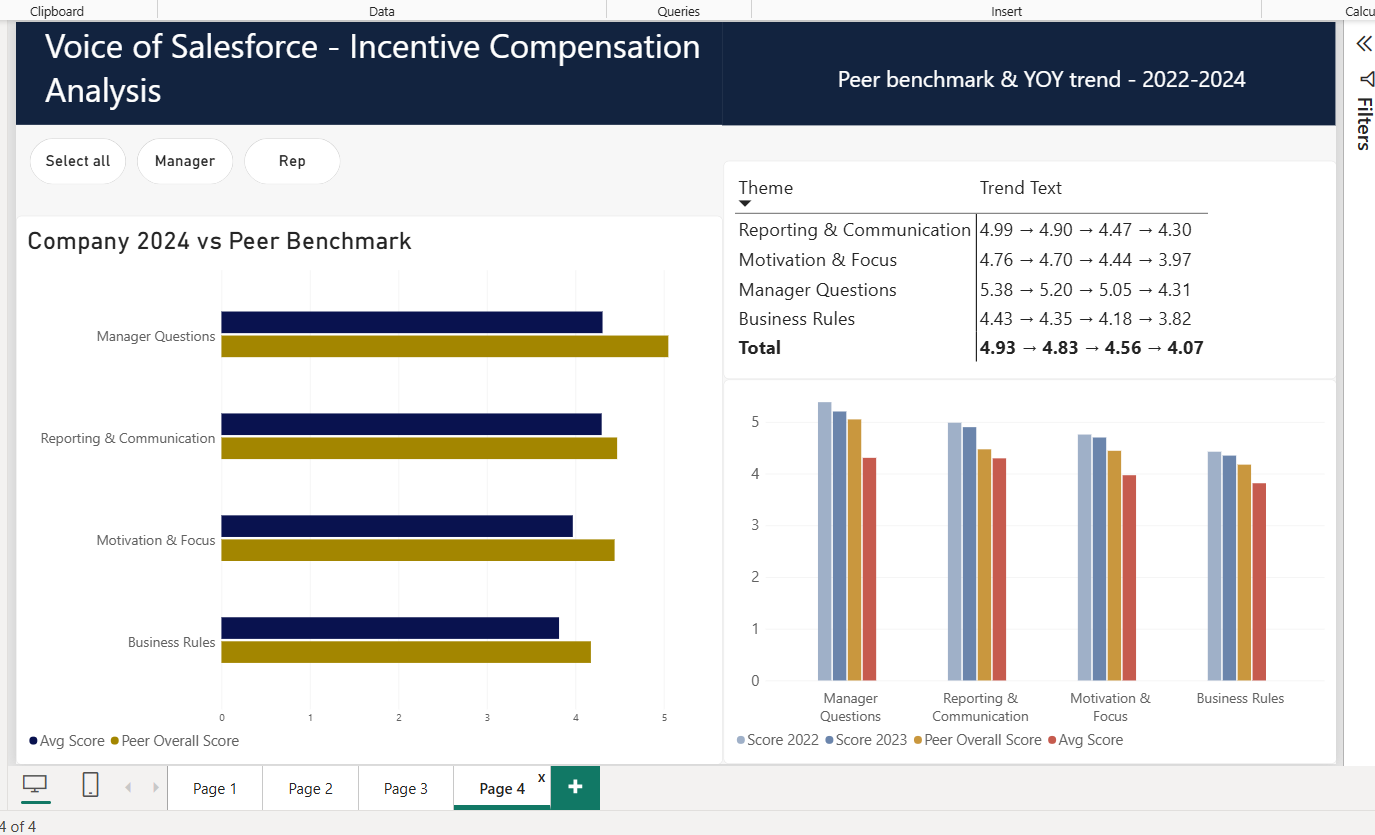

The dashboard page shown, as its layout file describes it:
{"tool":"powerbi","page":{"name":"Page 4","canvas":[1920,1080],"ordinal":3},"visuals":[{"type":"clusteredBarChart","title":"Company 2024 vs Peer Benchmark","fields":{"Category":["Question_Map.Theme"],"Y":["Fact_Sentiment_Long.Avg Score","Fact_Benchmarks.Peer Overall Score"]},"box":[0,281.3,1028,798.6],"z":0},{"type":"clusteredColumnChart","fields":{"Category":["Question_Map.Theme"],"Y":["Fact_Benchmarks.Score 2022","Fact_Benchmarks.Score 2023","Fact_Benchmarks.Peer Overall Score","Fact_Sentiment_Long.Avg Score"]},"box":[1028.3,520.5,891.7,558.9],"z":1000},{"type":"pivotTable","fields":{"Rows":["Question_Map.Theme"],"Values":["Fact_Benchmarks.Trend Text"]},"box":[1028.3,202.7,891.7,317.9],"z":2000},{"type":"textbox","box":[0,0,1028,149.3],"z":3000},{"type":"textbox","box":[1028,0,892,150],"z":4000},{"type":"advancedSlicerVisual","fields":{"Values":["Fact_Sentiment_Long.Role Level"]},"box":[0,168.8,1869.8,67.1],"z":5000}]}

Visuals, with their boxes on the page's 1920x1080 design canvas (x1, y1, x2, y2). These are canvas units, not pixel positions in the 1375x835 screenshot, which may show the page scaled, cropped or inside an application window:
"Company 2024 vs Peer Benchmark" clusteredBarChart: region(0, 281, 1028, 1080)
clusteredColumnChart - Question_Map.Theme x Fact_Benchmarks.Score 2022: region(1028, 520, 1920, 1079)
pivotTable - Question_Map.Theme x Fact_Benchmarks.Trend Text: region(1028, 203, 1920, 521)
textbox: region(0, 0, 1028, 149)
textbox: region(1028, 0, 1920, 150)
advancedSlicerVisual - Fact_Sentiment_Long.Role Level: region(0, 169, 1870, 236)
